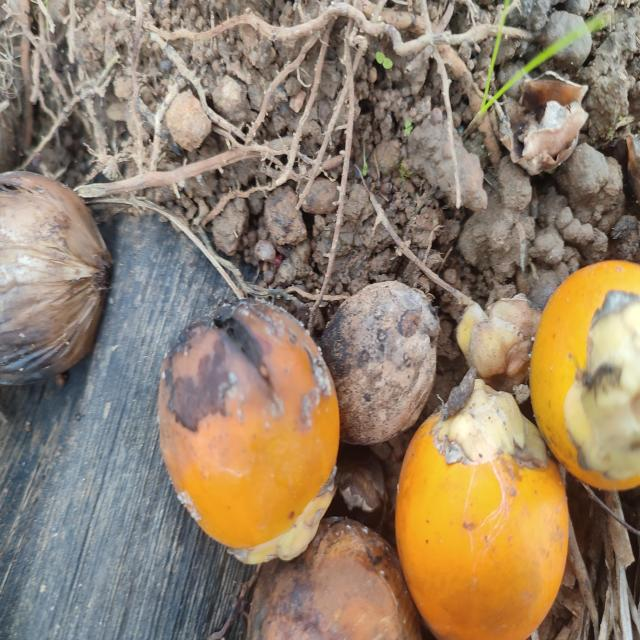damaged: (154, 303, 342, 569), (222, 510, 435, 640), (0, 173, 114, 397), (318, 283, 439, 449)
